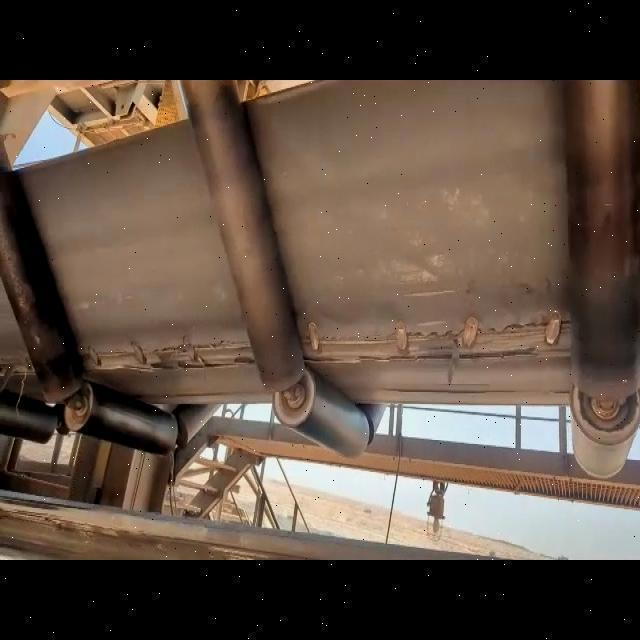Tear: (297, 310, 578, 365), (80, 326, 260, 390)
